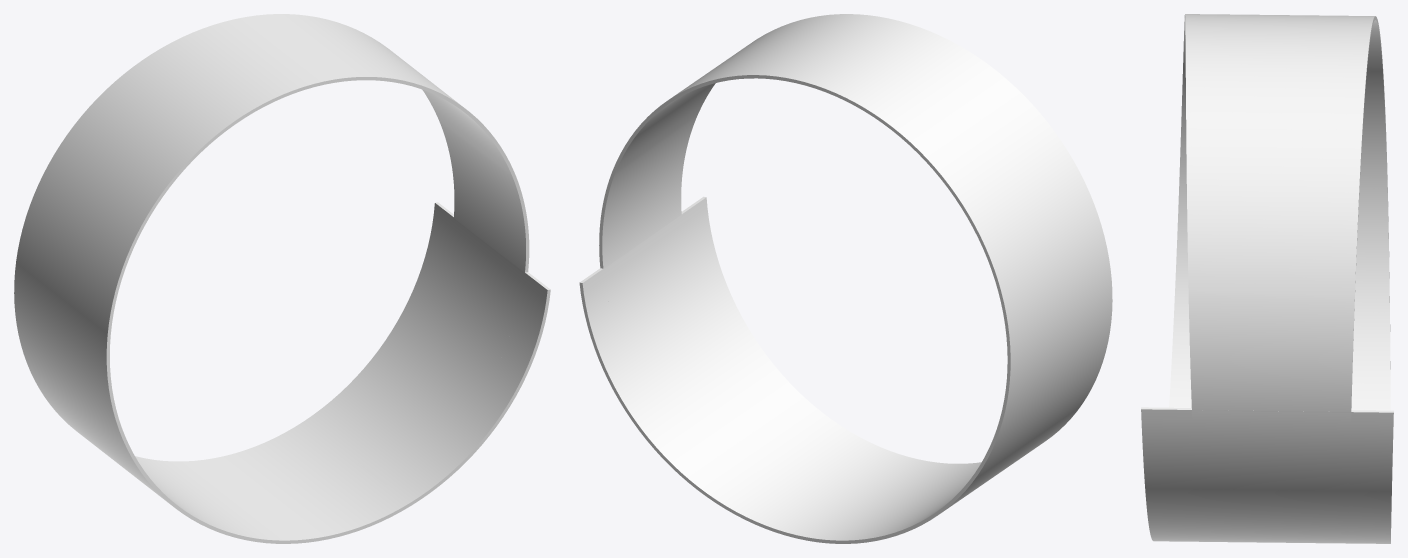
Rendered from Level 69 roll ganja for snoop dogg.fbx.
The picture shows the model from 3 angles, left to right: view 1: azimuth 30°, elevation 25°; view 2: azimuth 150°, elevation 25°; view 3: azimuth 270°, elevation 25°; orthographic projection. The views are drawn at different scales.
Parts seen in each view (by area): view 1: Blend; view 2: Blend; view 3: Blend.
Part boxes in pixels (x1,y1,x2,y2): Blend: [14, 14, 550, 543]; Blend: [579, 14, 1112, 543]; Blend: [1141, 14, 1393, 543].
Size of what is drawn, in the model's own units: 136 by 135 by 64.81.
